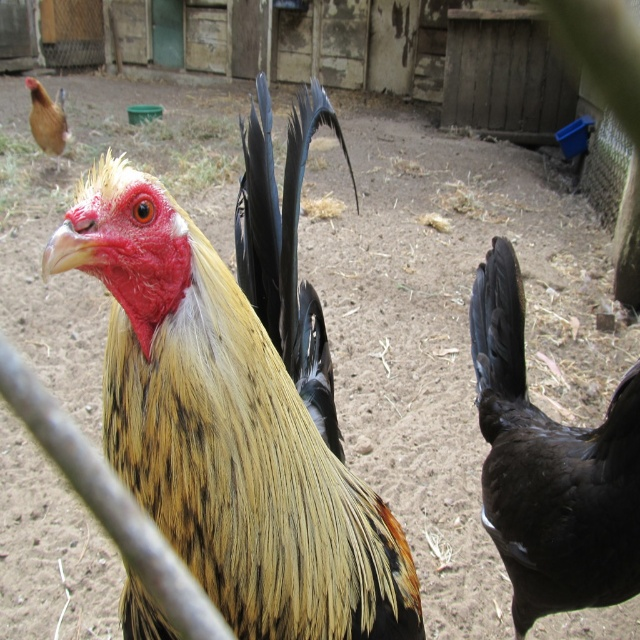Chicken: (40, 67, 429, 639), (468, 236, 640, 639)
